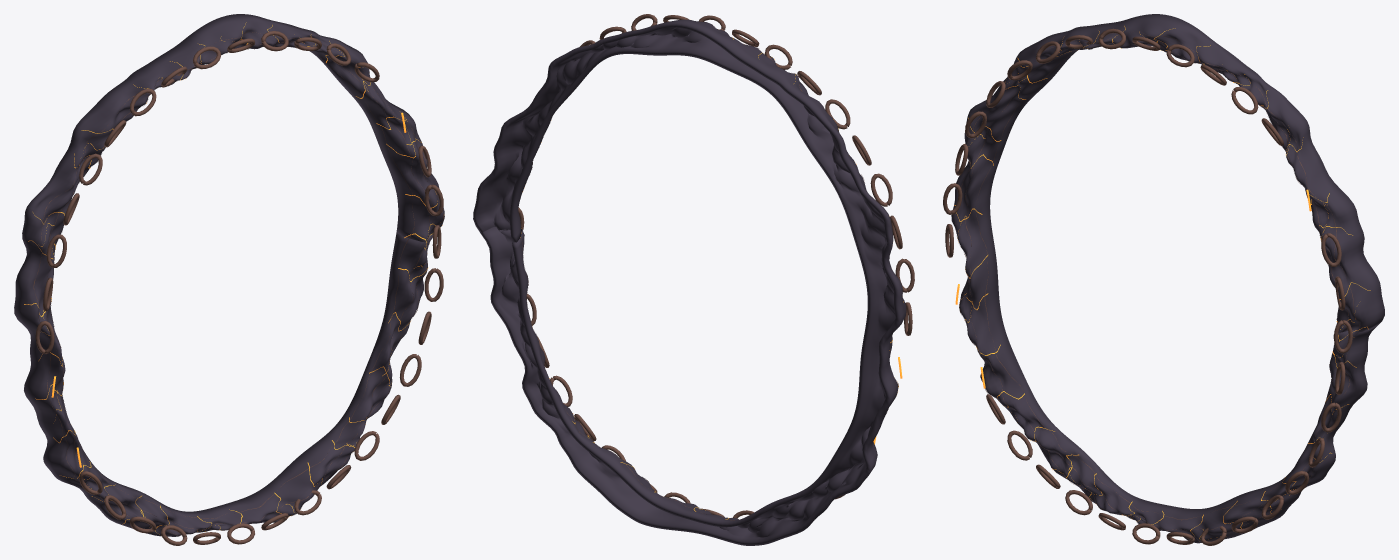
File: BridgeRiftV19.fbx
3 renders of one model, left to right at view 1: azimuth 30°, elevation 25°; view 2: azimuth 150°, elevation 25°; view 3: azimuth 330°, elevation 25°, orthographic.
Parts seen in each view (by area): view 1: Rift_Obsidian, Rift_Vitrified, Rift_Ember; view 2: Rift_Obsidian, Rift_Vitrified; view 3: Rift_Obsidian, Rift_Vitrified, Rift_Ember.
Boxes of the visible parts, left/top/right/bottom form: Rift_Obsidian: left=14, top=14, right=444, bottom=536; Rift_Vitrified: left=33, top=31, right=444, bottom=545; Rift_Ember: left=24, top=22, right=442, bottom=534; Rift_Obsidian: left=473, top=19, right=906, bottom=545; Rift_Vitrified: left=518, top=14, right=914, bottom=520; Rift_Obsidian: left=951, top=14, right=1384, bottom=543; Rift_Vitrified: left=943, top=28, right=1360, bottom=545; Rift_Ember: left=954, top=26, right=1370, bottom=538.
Bounding box in the file's own units: 1.72 × 1.97 × 0.1695.
